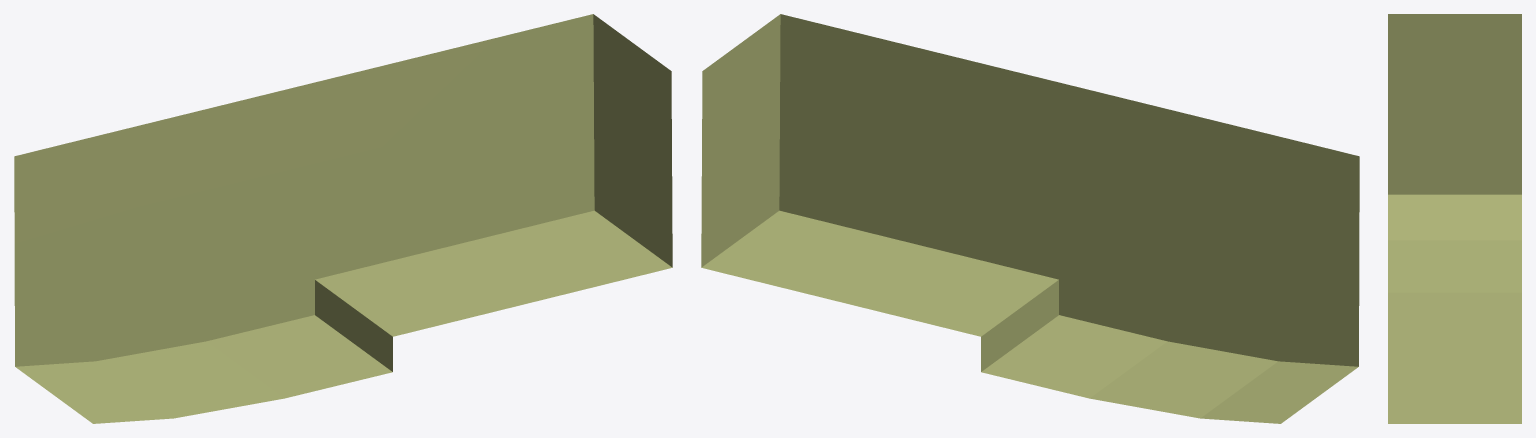
The picture shows the model from 3 angles, left to right: view 1: azimuth 30°, elevation 25°; view 2: azimuth 150°, elevation 25°; view 3: azimuth 270°, elevation 25°; orthographic projection. The views are drawn at different scales.
Visible parts, largest first — view 1: 0_3_2_0_2_3_3_1_2; view 2: 0_3_2_0_2_3_3_1_2; view 3: 0_3_2_0_2_3_3_1_2.
Boxes of the visible parts, x1,y1,x2,y2 form: 0_3_2_0_2_3_3_1_2: [14, 14, 672, 423]; 0_3_2_0_2_3_3_1_2: [701, 14, 1359, 423]; 0_3_2_0_2_3_3_1_2: [1388, 14, 1521, 423].
Size of the model in its own units: 25.73 by 9.88 by 6.
